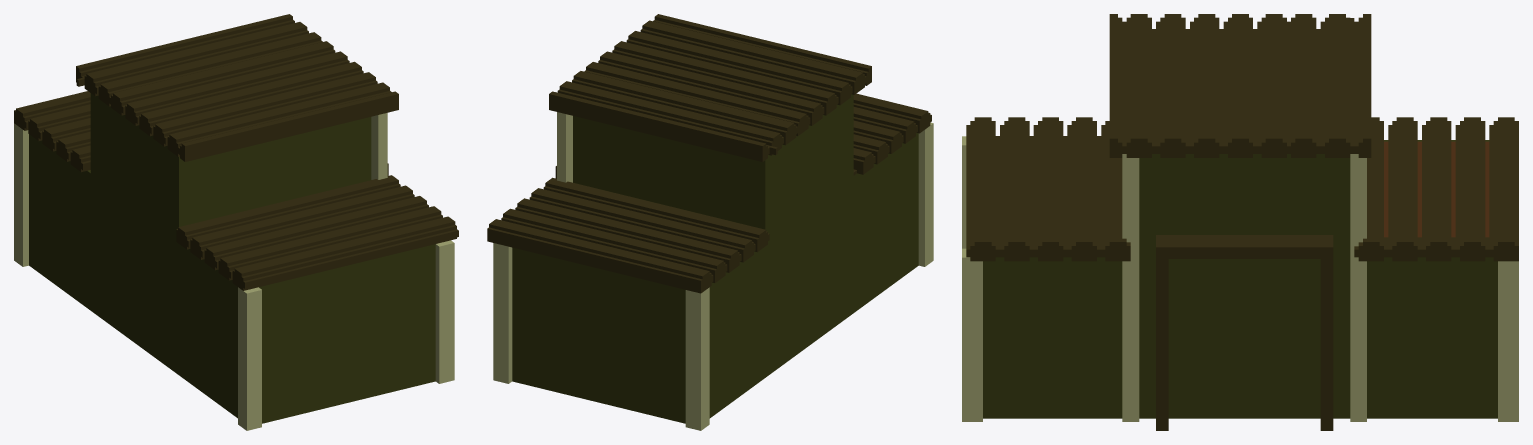
File: HouseBig.obj
3 renders of one model, left to right at view 1: azimuth 30°, elevation 25°; view 2: azimuth 150°, elevation 25°; view 3: azimuth 270°, elevation 25°, orthographic. The views are drawn at different scales.
Size of the model in its own units: 7.5 by 7.5 by 13.2.
